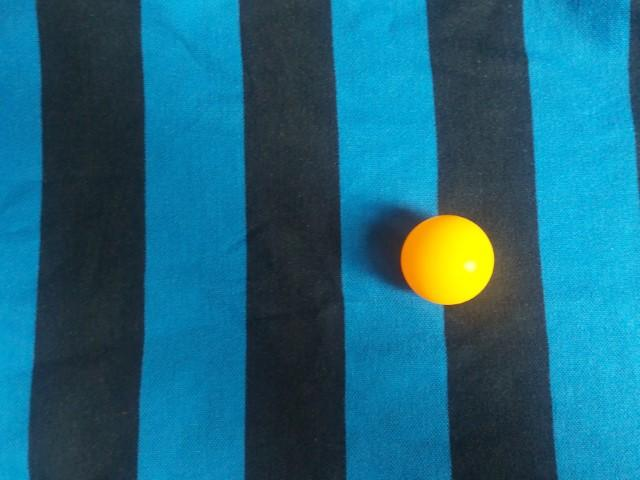oball: (141, 171, 246, 273)
